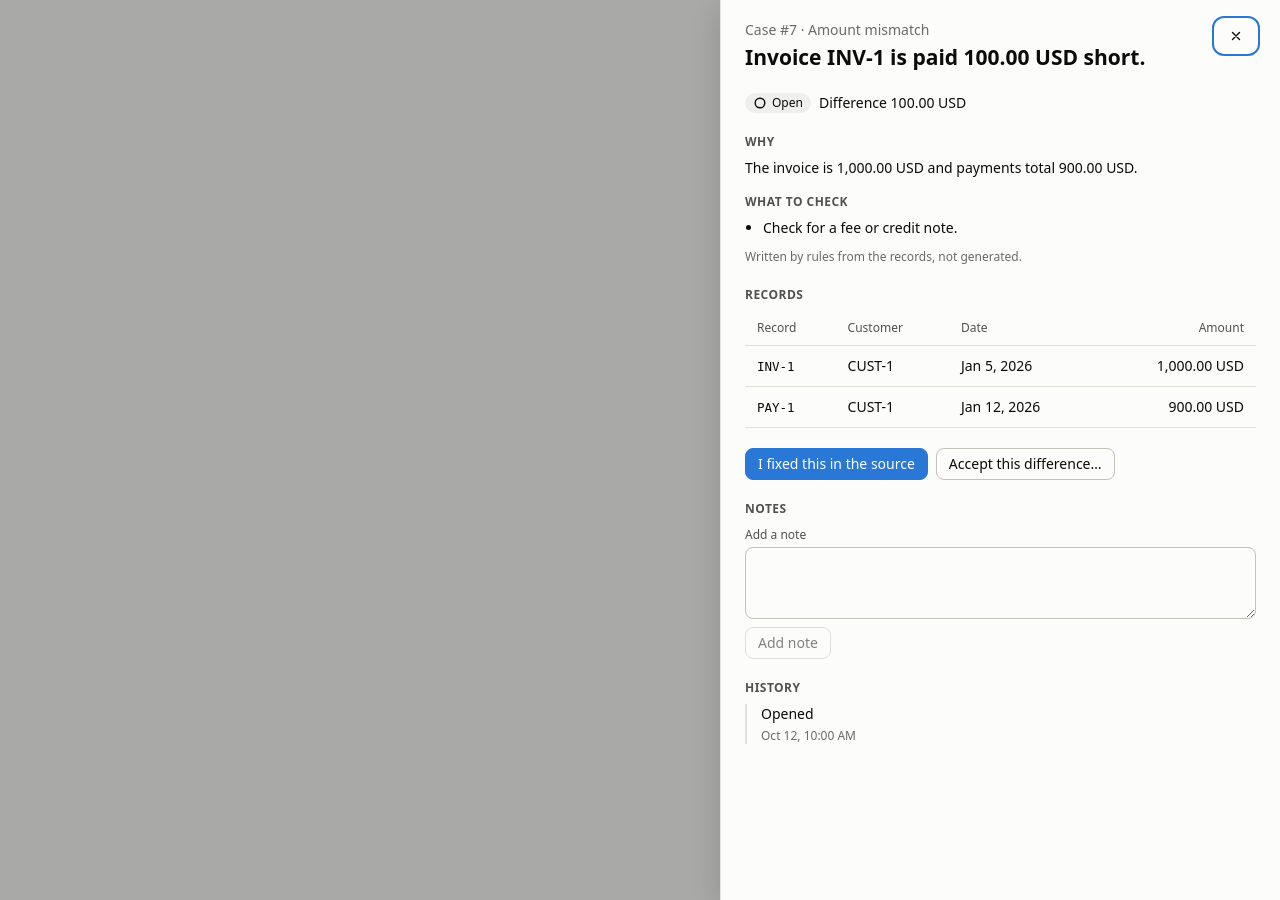
CaseDrawer › explains a stale case in plain words and refetches it
Click the button "I fixed this in the source" at (836,464), box [745,448,928,480]
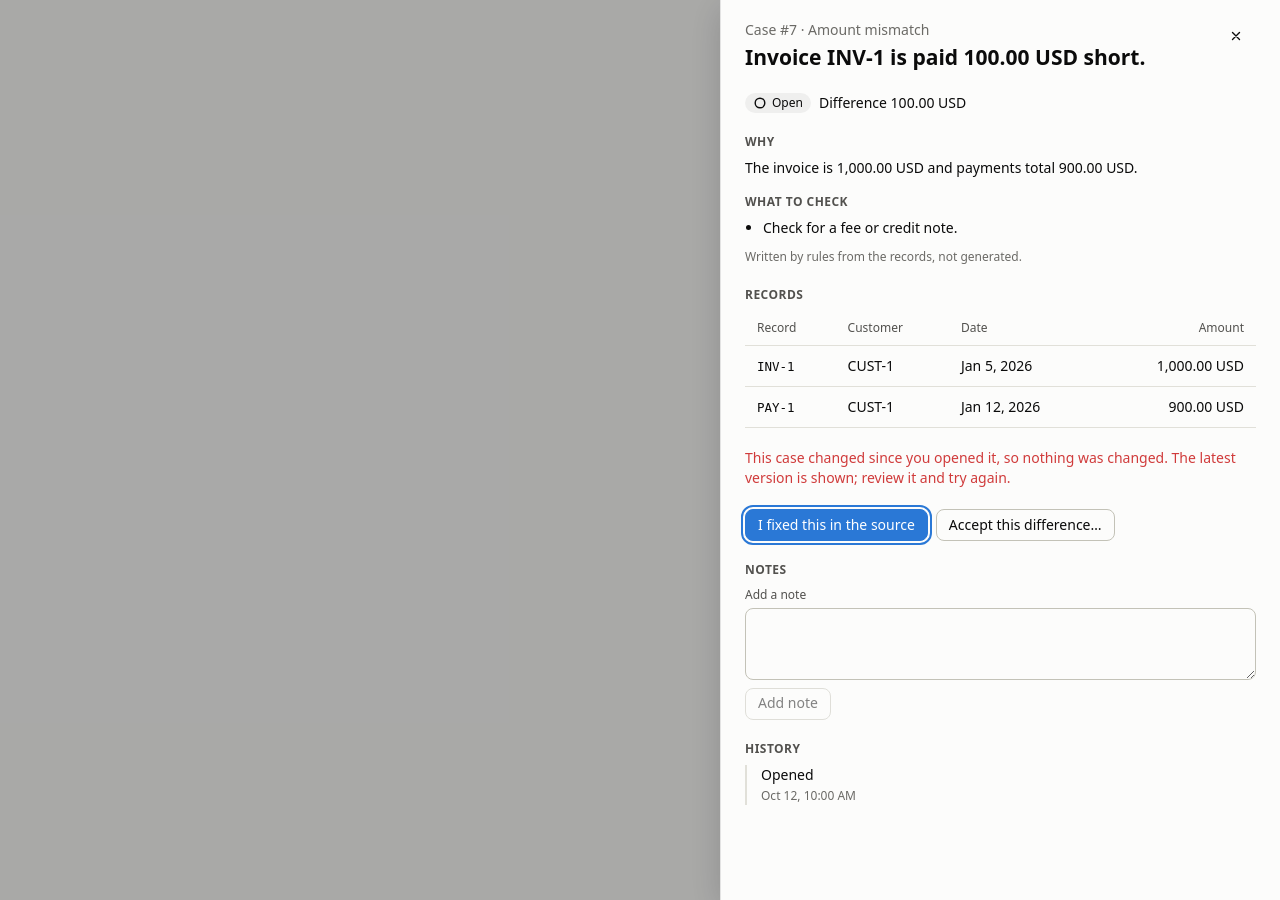
expect the message shows "changed since you opened it, so nothing was changed": met, box [745,448,1236,488]
